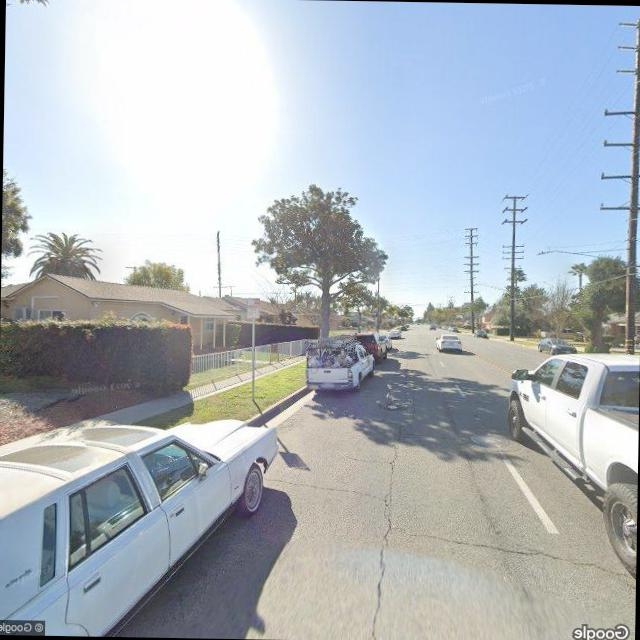crack: (406, 530, 632, 576), (368, 423, 406, 638), (264, 474, 385, 498), (344, 452, 394, 466)
